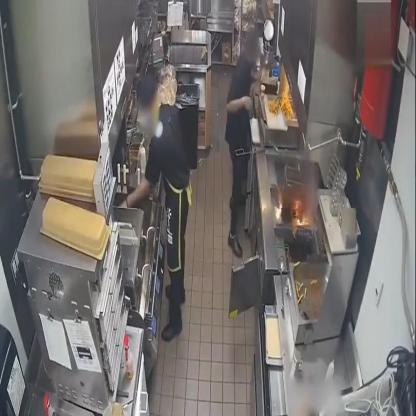fire: (296, 217, 308, 228)
